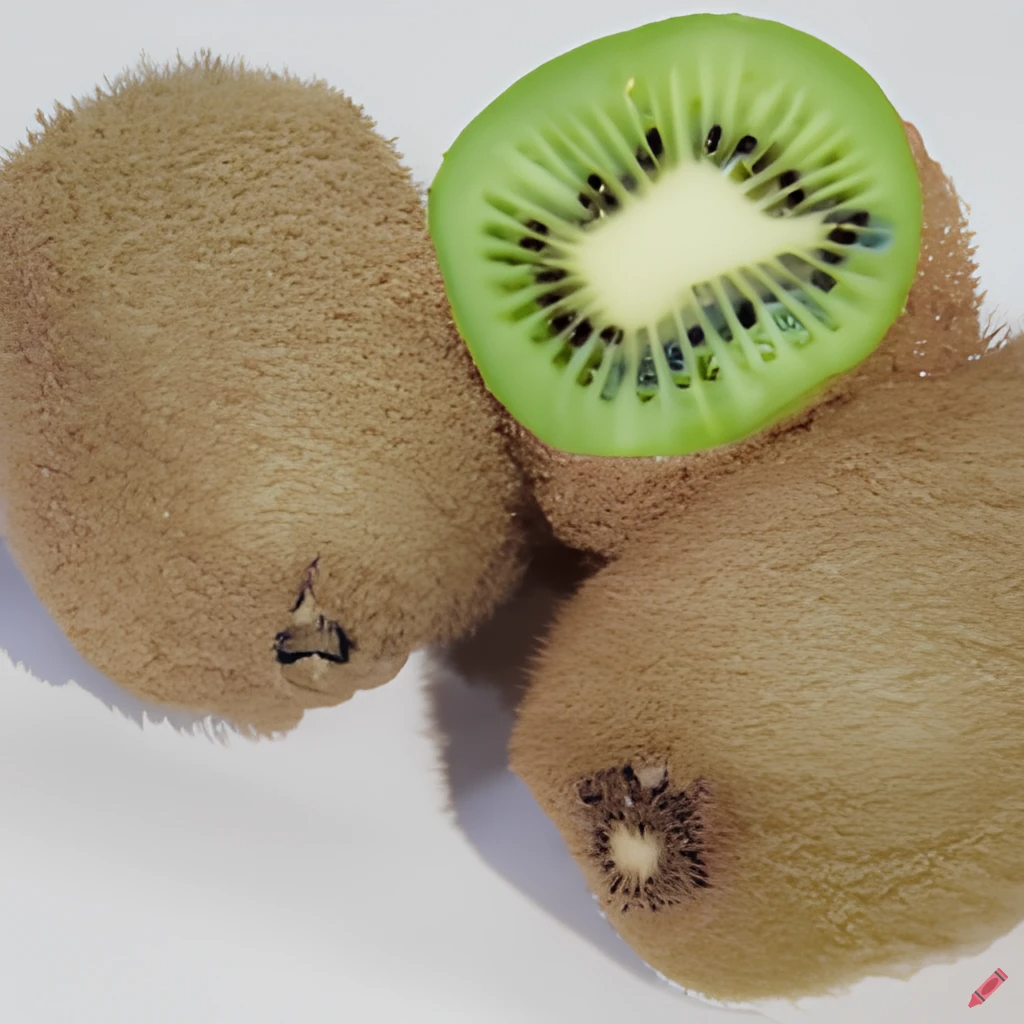Kiwi: (0, 29, 500, 762), (524, 328, 1020, 990), (433, 22, 972, 564)
